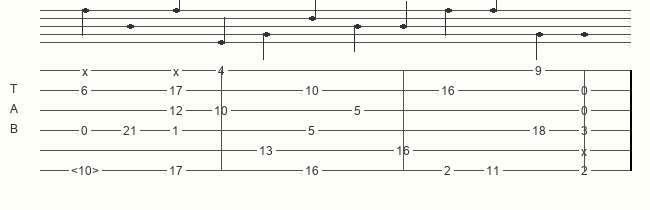0: (81, 124, 92, 137), (581, 104, 592, 117), (581, 84, 592, 97)
1: (172, 124, 183, 137)
10: (214, 104, 232, 117), (305, 84, 323, 97)
11: (486, 164, 504, 177)
12: (169, 104, 187, 117)
13: (259, 144, 277, 157)
16: (305, 164, 323, 177), (396, 144, 414, 157), (441, 84, 459, 97)
17: (169, 84, 187, 97), (169, 164, 187, 177)
18: (532, 124, 550, 137)
2: (444, 164, 455, 177), (581, 164, 592, 177)
21: (123, 124, 141, 137)
3: (581, 124, 592, 137)
4: (218, 64, 229, 77)
5: (308, 124, 319, 137), (354, 104, 365, 117)
6: (81, 84, 92, 97)
9: (535, 64, 546, 77)
harmonic: (71, 164, 103, 177)
x: (82, 65, 92, 76), (173, 65, 183, 76), (581, 145, 591, 156)
